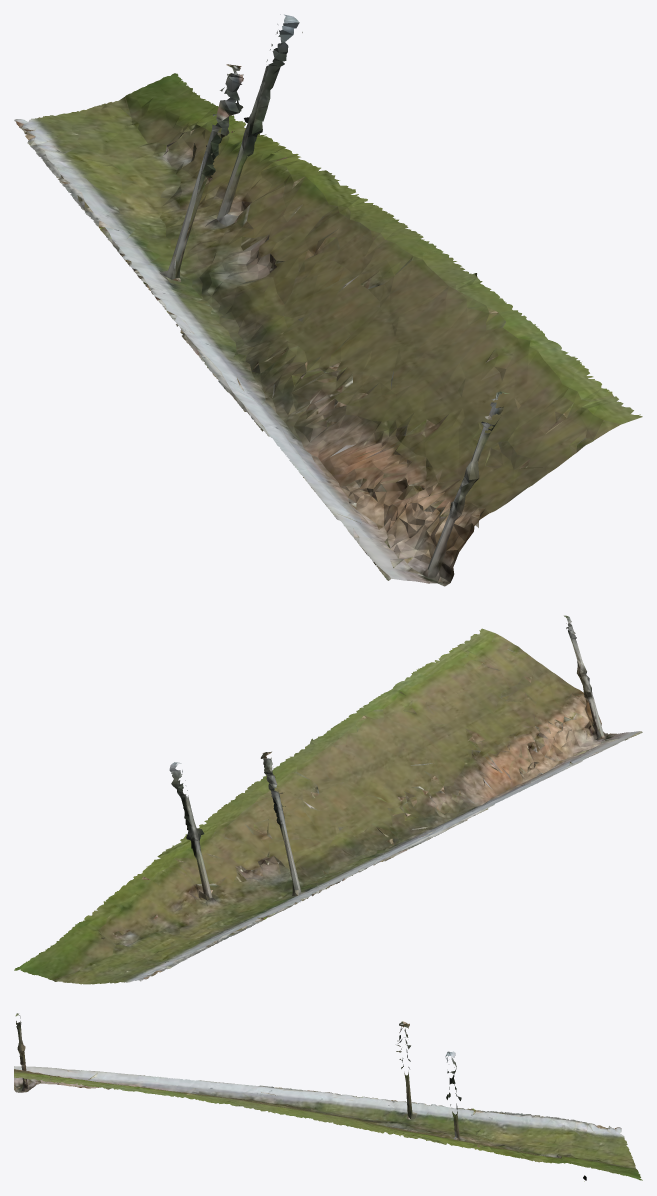
3 renders of one model, top to bottom at view 1: azimuth 30°, elevation 25°; view 2: azimuth 150°, elevation 25°; view 3: azimuth 270°, elevation 25°, orthographic. The views are drawn at different scales.
Bounding box in the file's own units: 13.87 × 7.96 × 37.1.
1 material, 1 textured.
